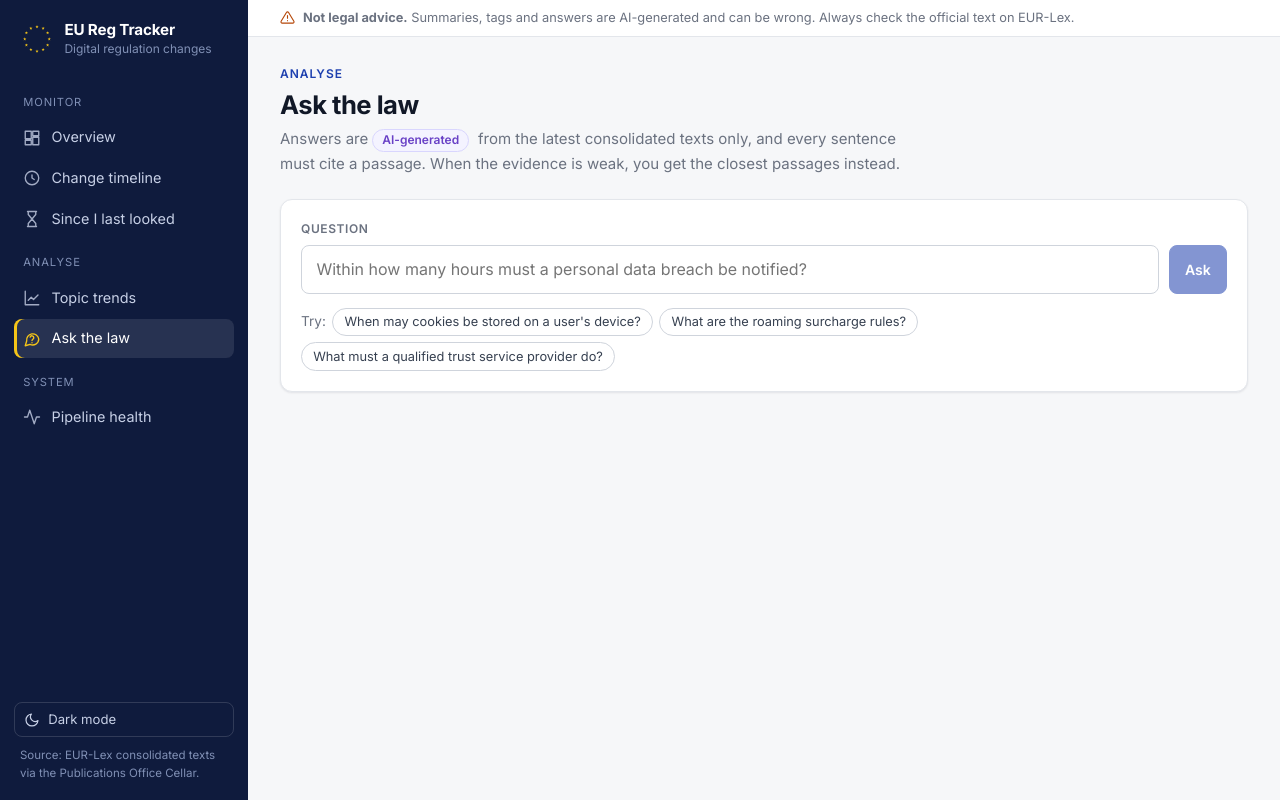
ask › renders an answer with citation links
Type "Do cookies need consent?" into the field labelled "Question" at [730, 270], box [301, 245, 1159, 294]
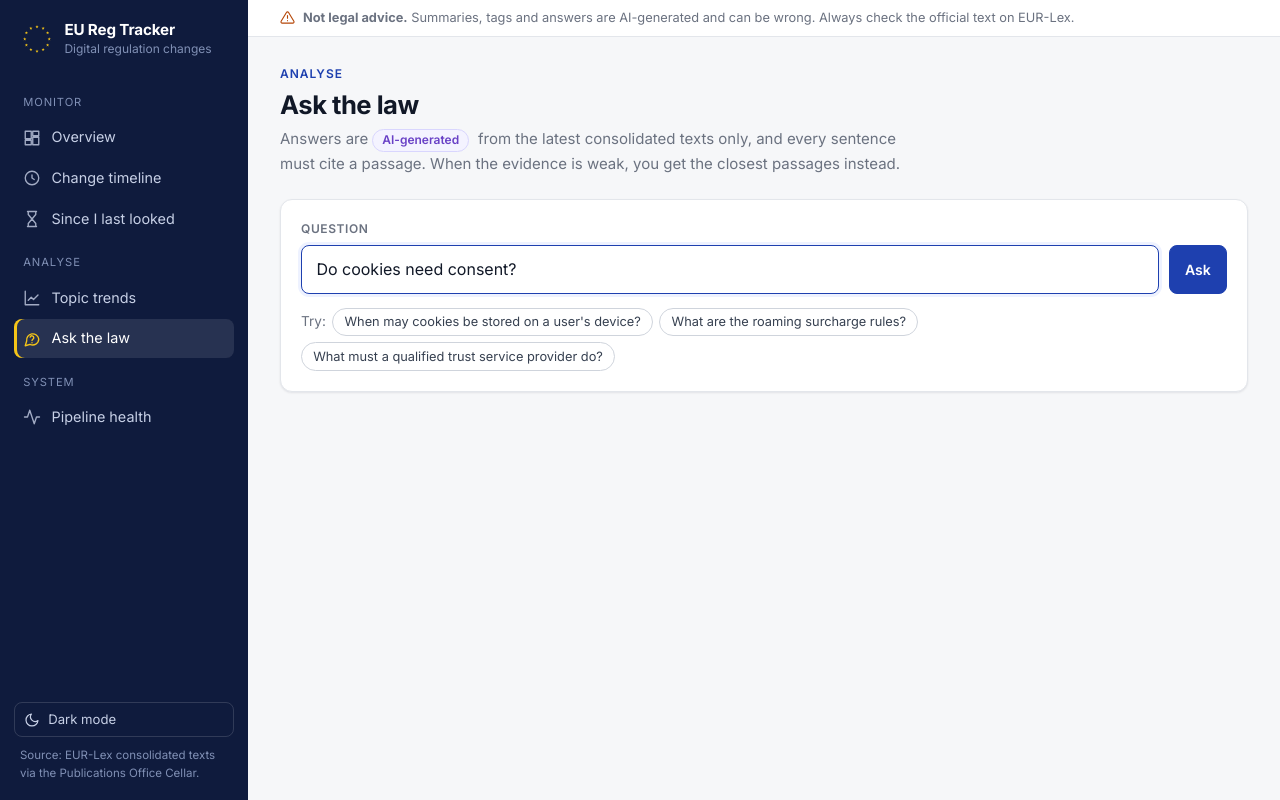
Click the button "Ask" at [1198, 270], box [1169, 245, 1227, 294]
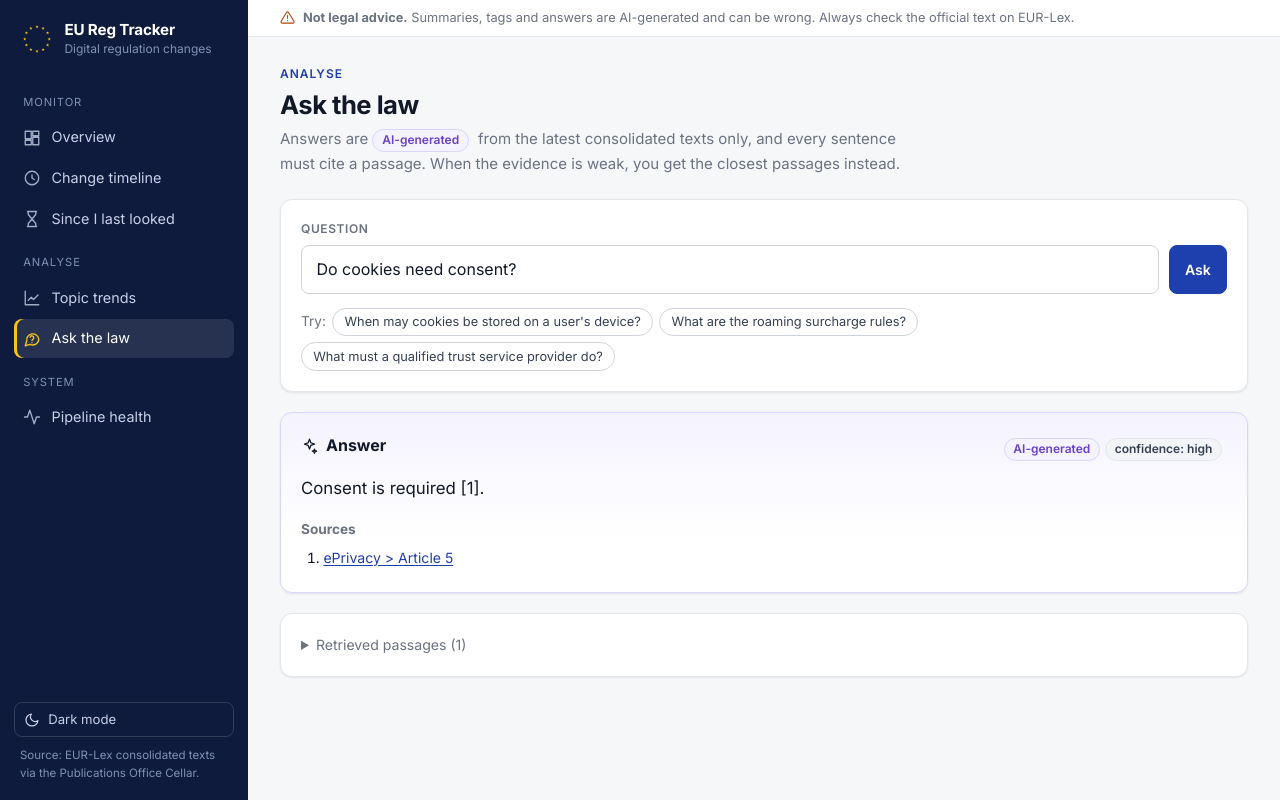
Check: the text "Consent is required [1]." is shown, box [301, 478, 484, 498]
